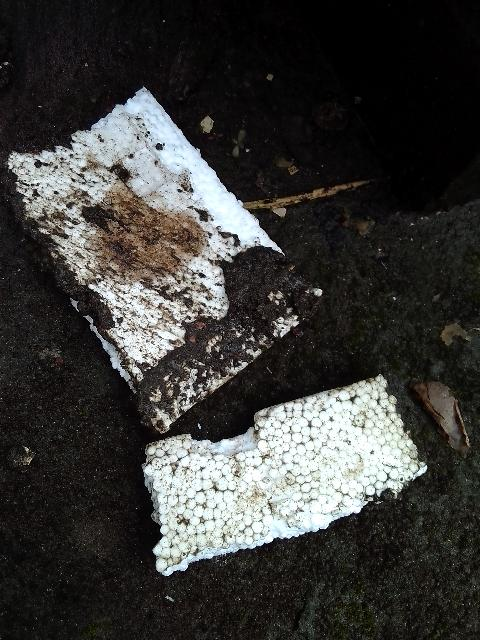cocksheet: (4, 87, 334, 431), (137, 361, 430, 570)
